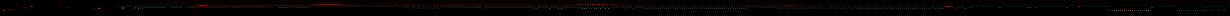Blue cone: (6, 9, 13, 10), (22, 7, 27, 8), (29, 6, 34, 7)
Yellow cone: (1075, 6, 1082, 8)
